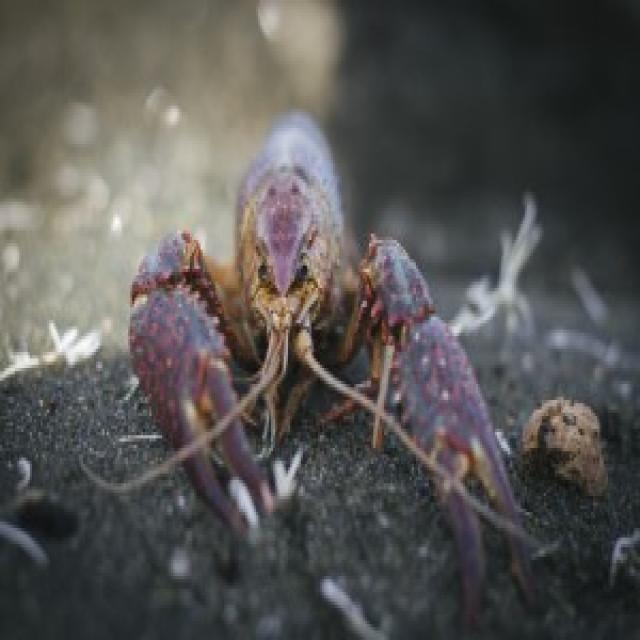lobsters: (94, 29, 524, 625)
